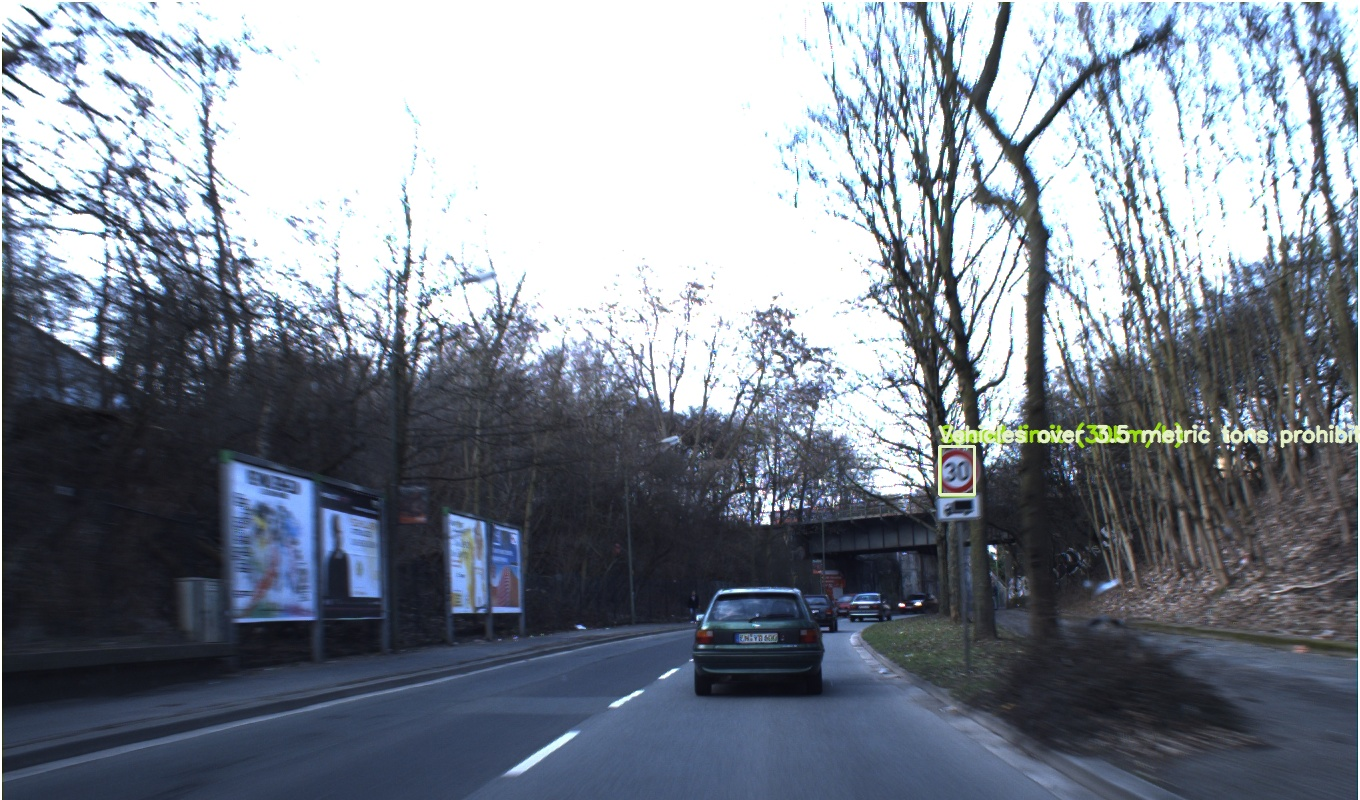Priority road: (605, 424, 627, 447)
